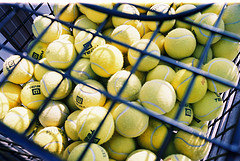tennis ball: (73, 104, 118, 147), (137, 78, 179, 119), (111, 99, 152, 140), (170, 65, 211, 104), (104, 70, 146, 105), (162, 24, 201, 61), (87, 44, 128, 79), (1, 52, 36, 86), (128, 39, 163, 73), (36, 71, 74, 101), (43, 39, 78, 70), (74, 29, 107, 59)
